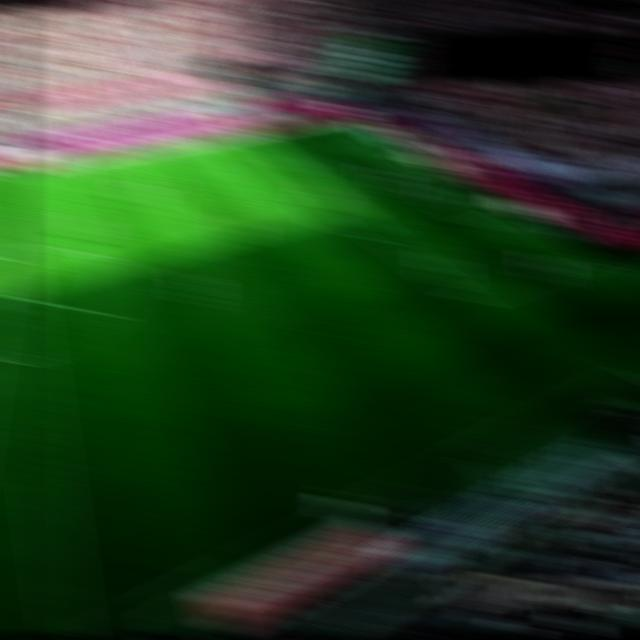bigarea_bottom_inner: (449, 294, 483, 309)
bigarea_bottom_outter: (575, 250, 608, 265)
bigarea_top_inner: (265, 156, 299, 170)
bigarea_top_outter: (362, 136, 396, 151)
bottom_arc_area_intersection: (370, 232, 403, 247)
corner: (318, 113, 351, 129)
halfcircle_bottom: (9, 347, 42, 361)
halfcircle_top: (0, 247, 27, 262)
smallarea_bottom_inner: (464, 219, 497, 234)
smallarea_bottom_outter: (497, 209, 531, 223)
smallarea_top_inner: (375, 165, 409, 180)
smallarea_top_outter: (405, 158, 438, 173)
top_arc_area_intersection: (307, 187, 342, 201)
